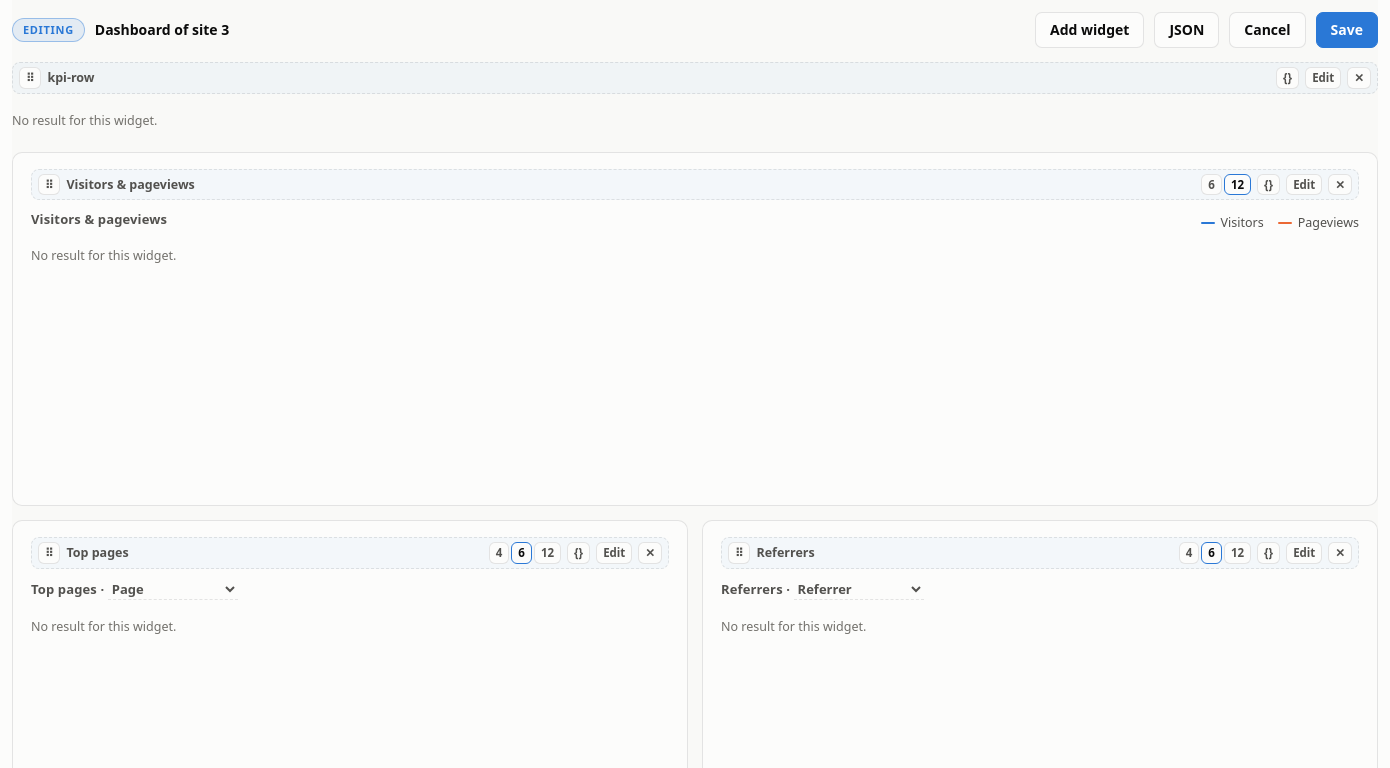
Test case: an editor draft belongs to one dashboard › remounts on another site, never carrying the old draft over
Check: the text with class "ename" reads "Dashboard of site 3", box [95,20,229,39]
Step 1. Click the button titled "Remove widget" in the row of "kpi-row" → (1359,78), box [1347,67,1371,89]
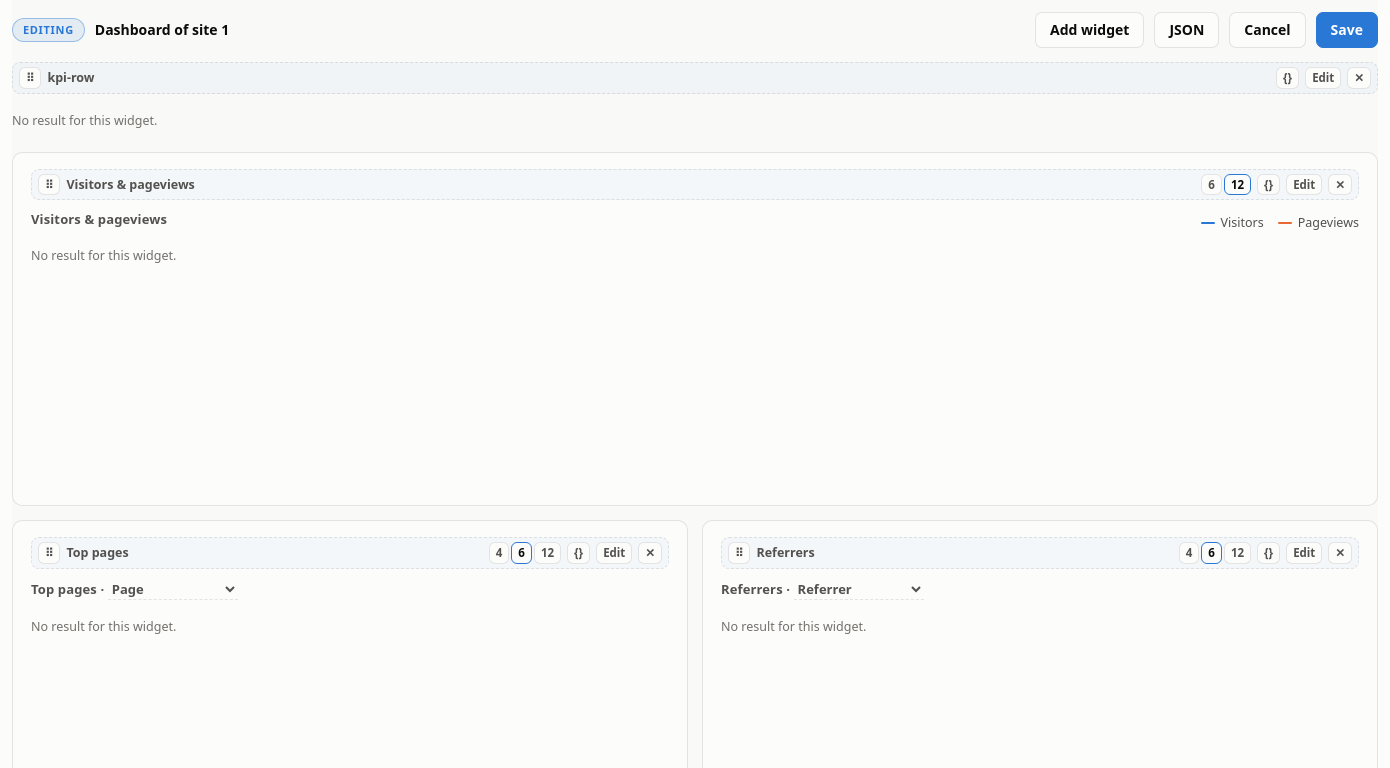
Check: the text with class "ename" reads "Dashboard of site 1", box [95,20,229,39]
